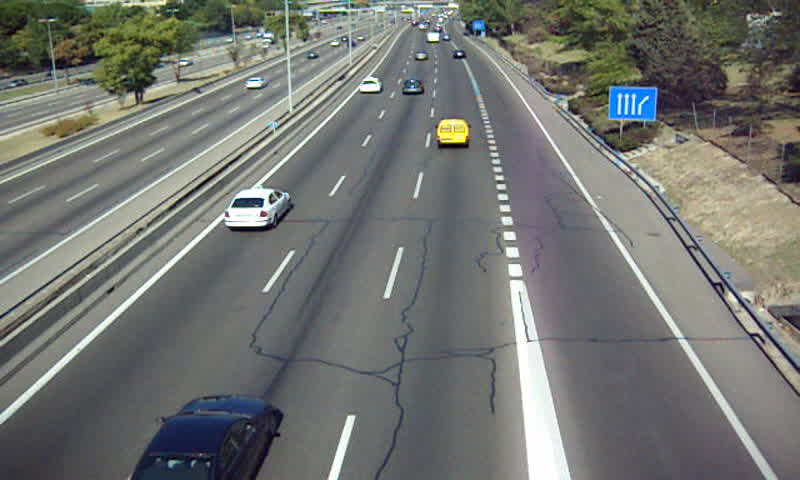car: (127, 394, 277, 480), (223, 188, 292, 229), (401, 78, 424, 96), (358, 77, 383, 93), (415, 50, 429, 63)
van: (437, 119, 469, 148)
